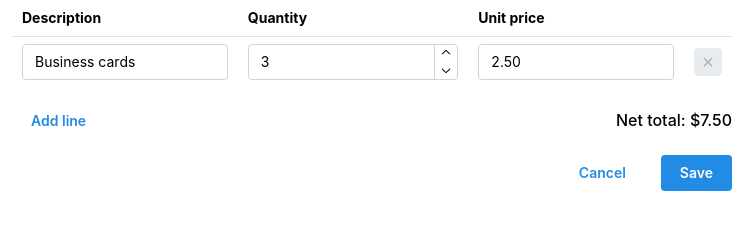
Test case: InvoiceForm › blocks submission when unit price is not a decimal amount
Replace the text in the 3rd field with "abc": (576, 62) [478,44,674,80]
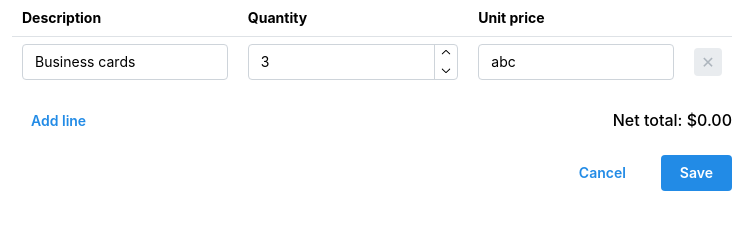
Click the button "Save": click(696, 173) [661,155,732,191]
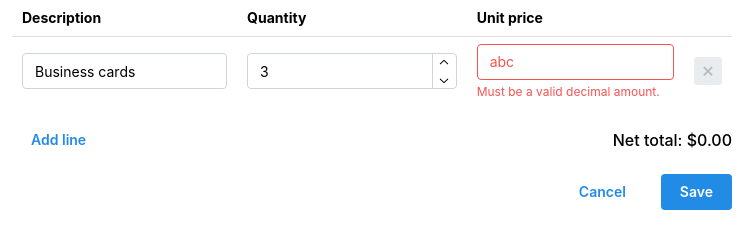
Check: the text "Must be a valid decimal amount." is shown, box [477,85,674,99]
